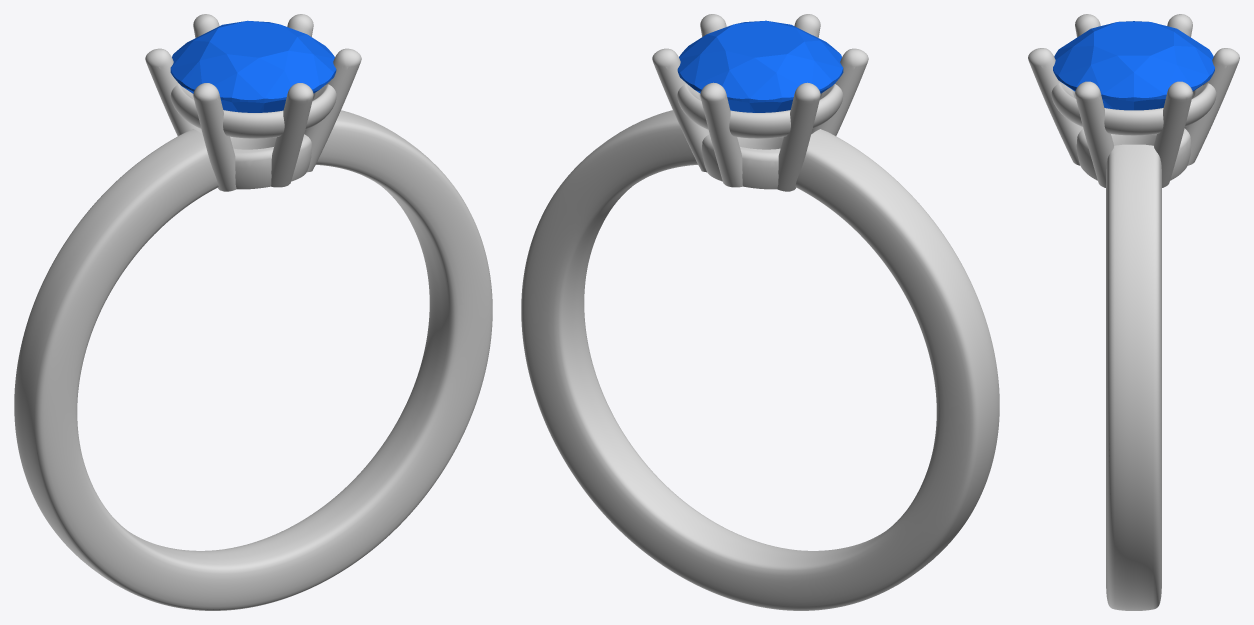
Rendered from bluesapphire-round-platinum-6prong-straightband-nosidestones.glb.
3 renders of one model, left to right at view 1: azimuth 30°, elevation 25°; view 2: azimuth 150°, elevation 25°; view 3: azimuth 270°, elevation 25°, orthographic. The views are drawn at different scales.
Visible parts, largest first — view 1: metal, stone; view 2: metal, stone; view 3: metal, stone.
Part boxes in pixels (<box>): metal: <box>14,14,492,610</box>; stone: <box>170,20,336,112</box>; metal: <box>521,14,999,610</box>; stone: <box>677,20,843,112</box>; metal: <box>1028,14,1239,610</box>; stone: <box>1053,21,1214,110</box>.
Size of the model in its own units: 20.51 by 23.82 by 8.35.
